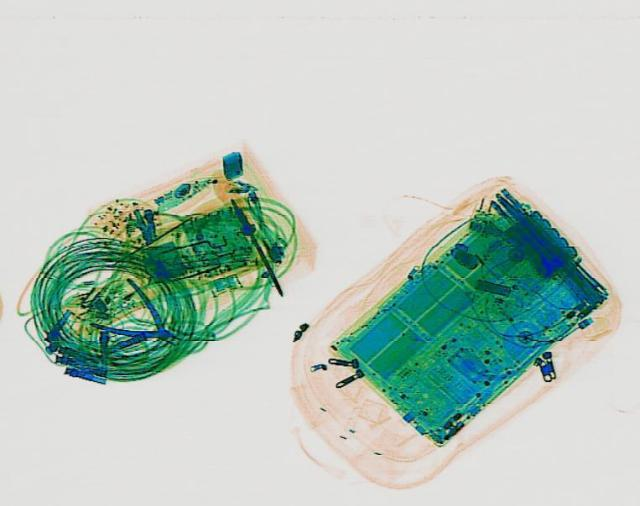Pliers: (77, 274, 205, 364)
